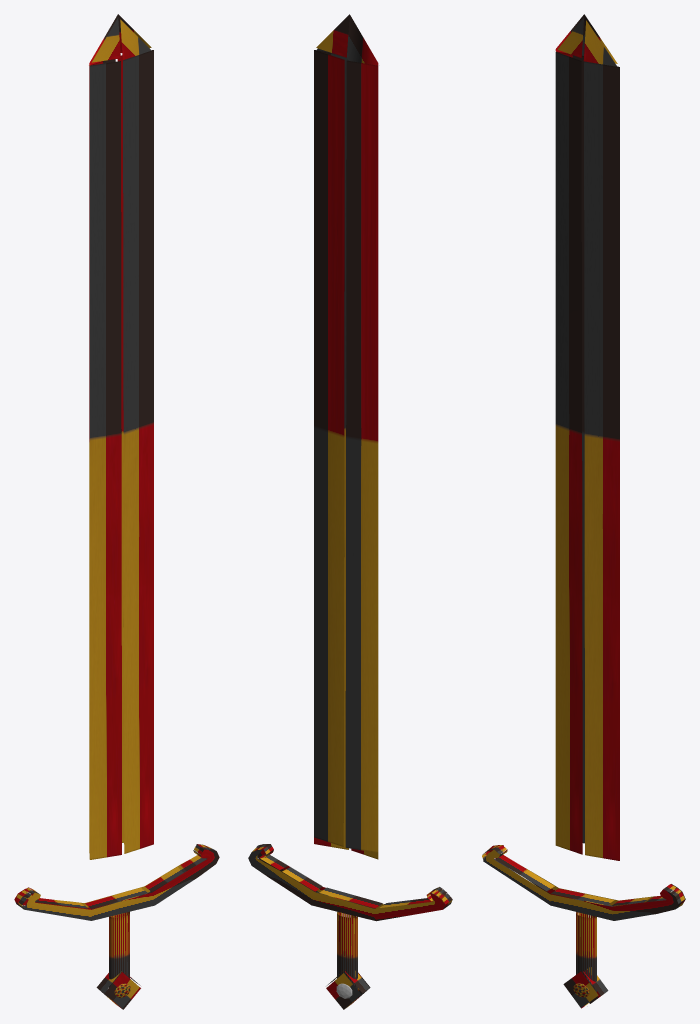
File: sword.obj
The picture shows the model from 3 angles, left to right: view 1: azimuth 30°, elevation 25°; view 2: azimuth 150°, elevation 25°; view 3: azimuth 330°, elevation 25°; orthographic projection.
Parts seen in each view (by area): view 1: Cube.002_Cube.003; view 2: Cube.002_Cube.003; view 3: Cube.002_Cube.003.
Boxes of the visible parts, bbox=[...] form: Cube.002_Cube.003: bbox=[14, 14, 219, 1009]; Cube.002_Cube.003: bbox=[248, 14, 452, 1009]; Cube.002_Cube.003: bbox=[482, 14, 685, 1008].
Size of the model in its own units: 1.03 by 4.95 by 0.089.
